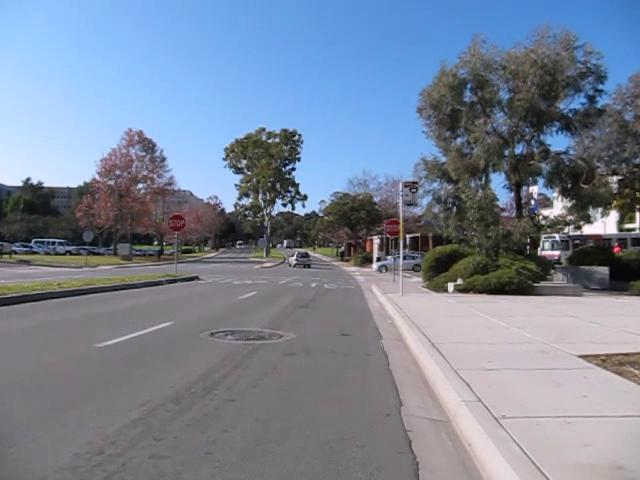stop: (166, 213, 186, 233)
